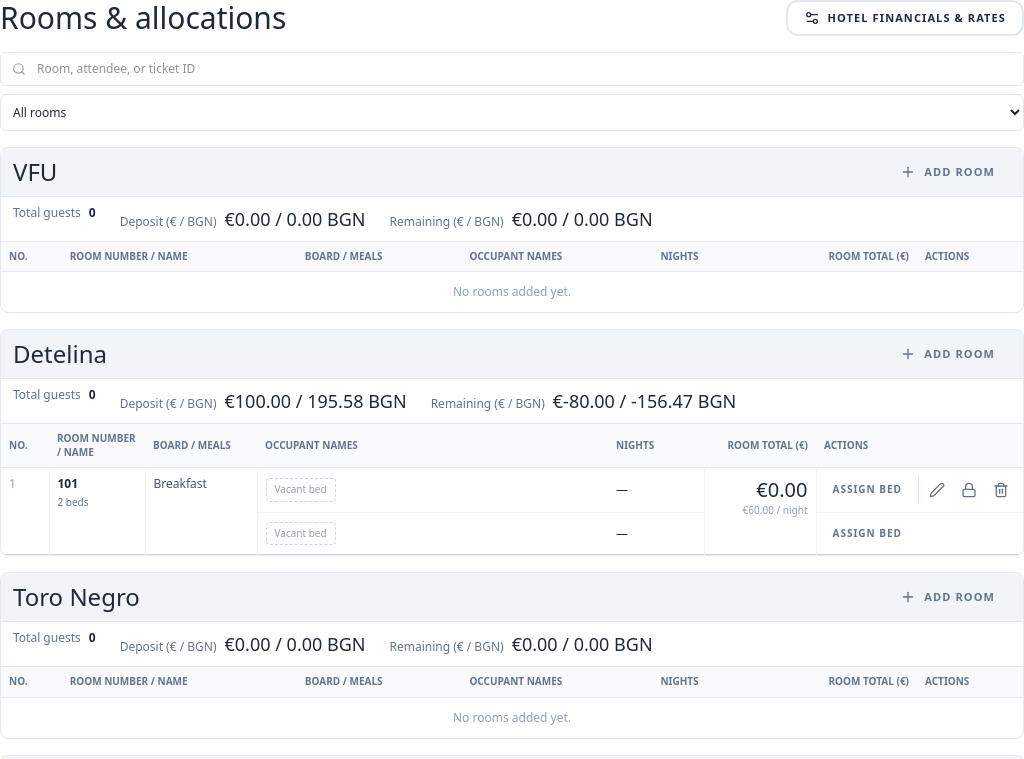
Scenario: hotel allocation spreadsheets › prefills a new room's hotel rate and saves a negotiated rate and board
Click the button "Add room" in the row of "Detelina". click: (948,354)
box: 884,338 -> 1011,370
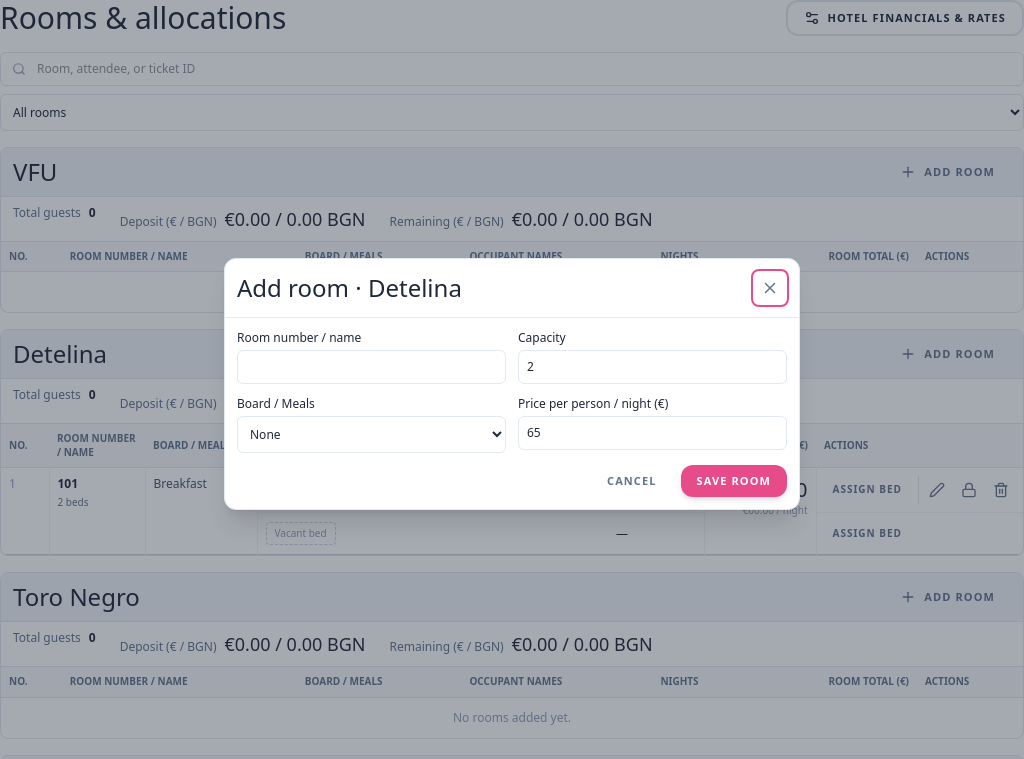
Check: the number field labelled "Price per person / night (€)" holds "65"
Replace the text in the number field labelled "Price per person / night (€)" with "61.5". click: (652,433)
box: 518,416 -> 787,450
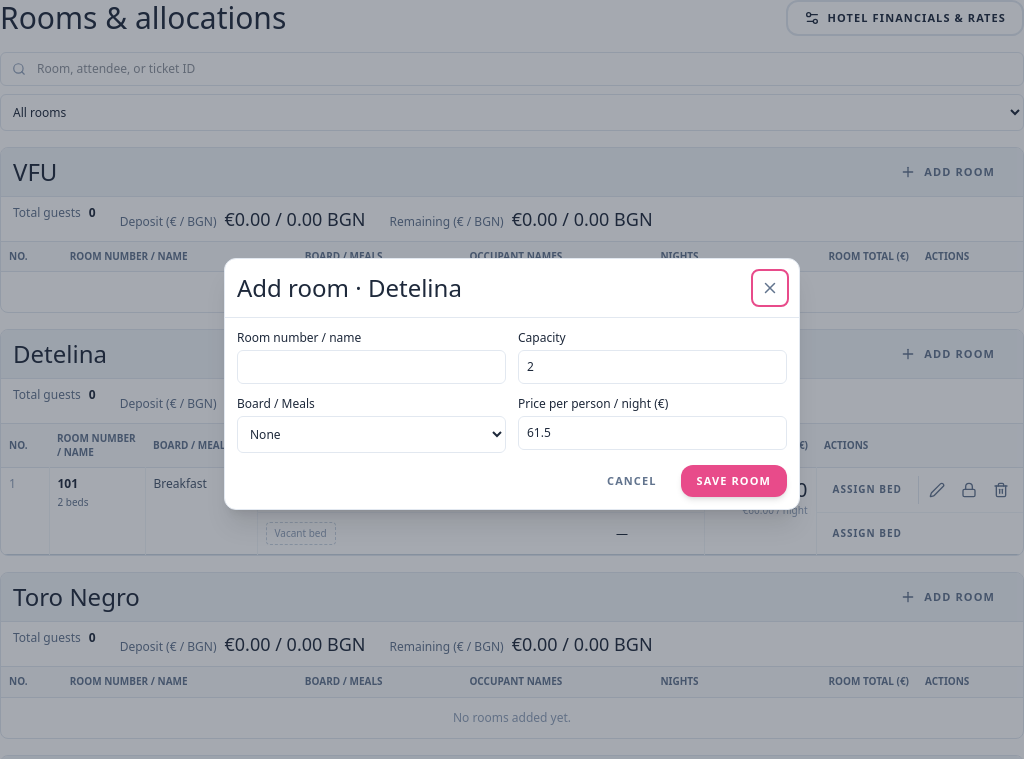
Type "413" into the field labelled "Room number / name". click: (372,367)
box: 237,350 -> 506,384
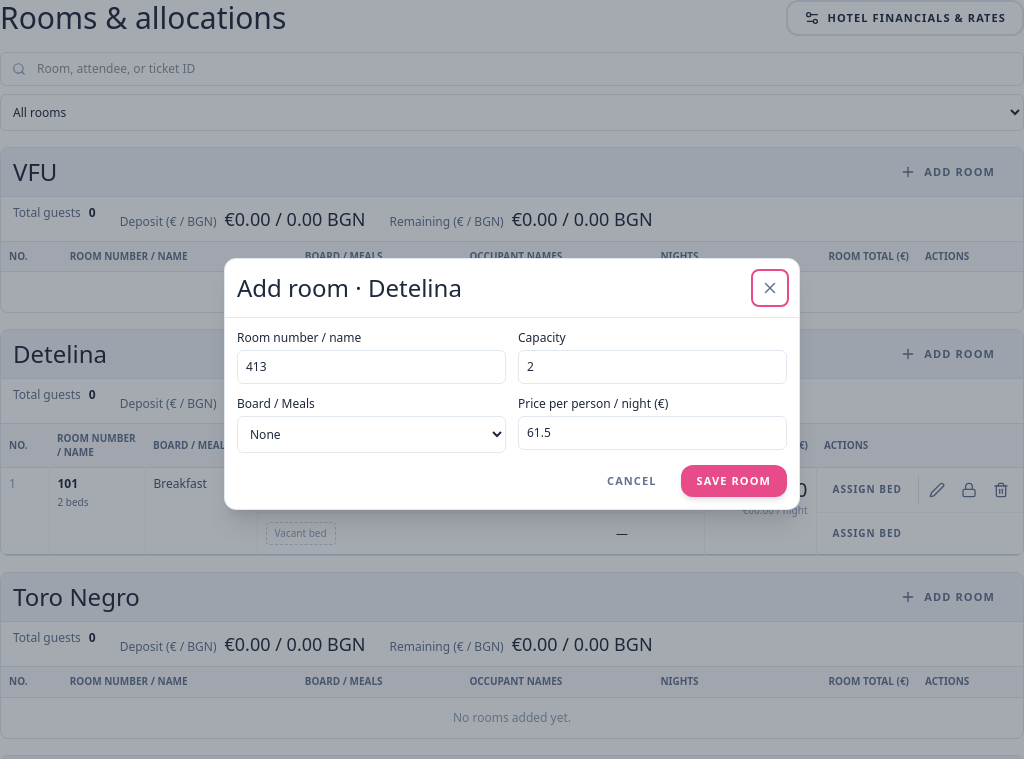
Replace the text in the number field labelled "Capacity" with "3". click: (652,367)
box: 518,350 -> 787,384
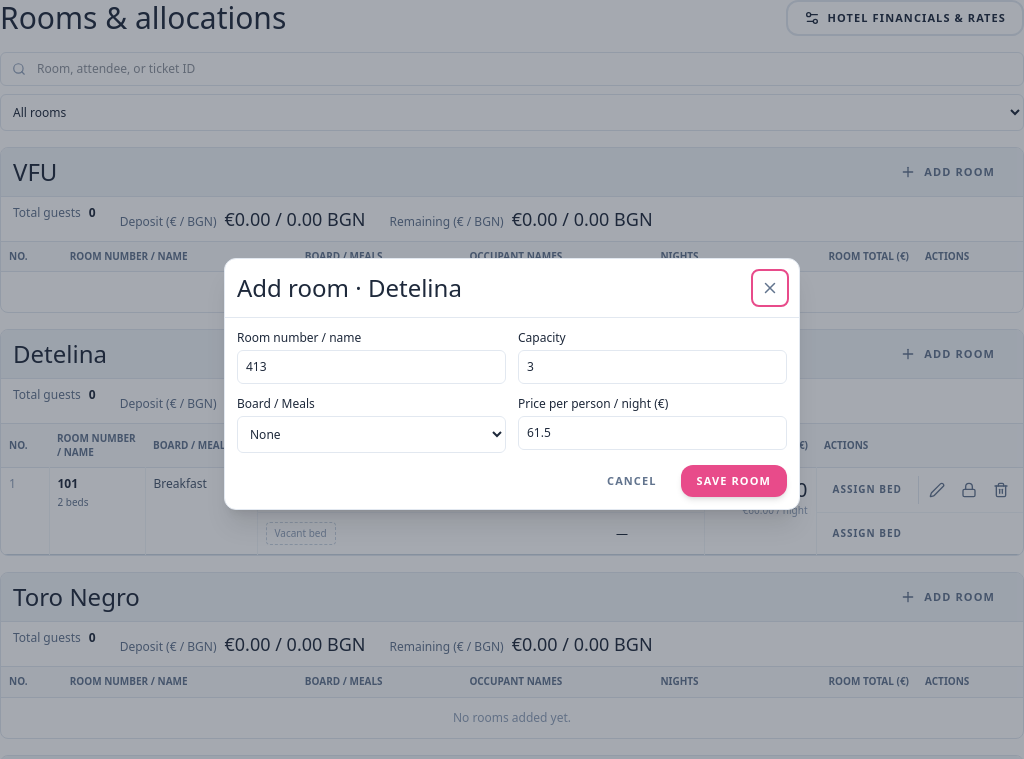
Select "Breakfast" in the dropdown labelled "Board / Meals". click: (372,434)
box: 237,416 -> 506,453
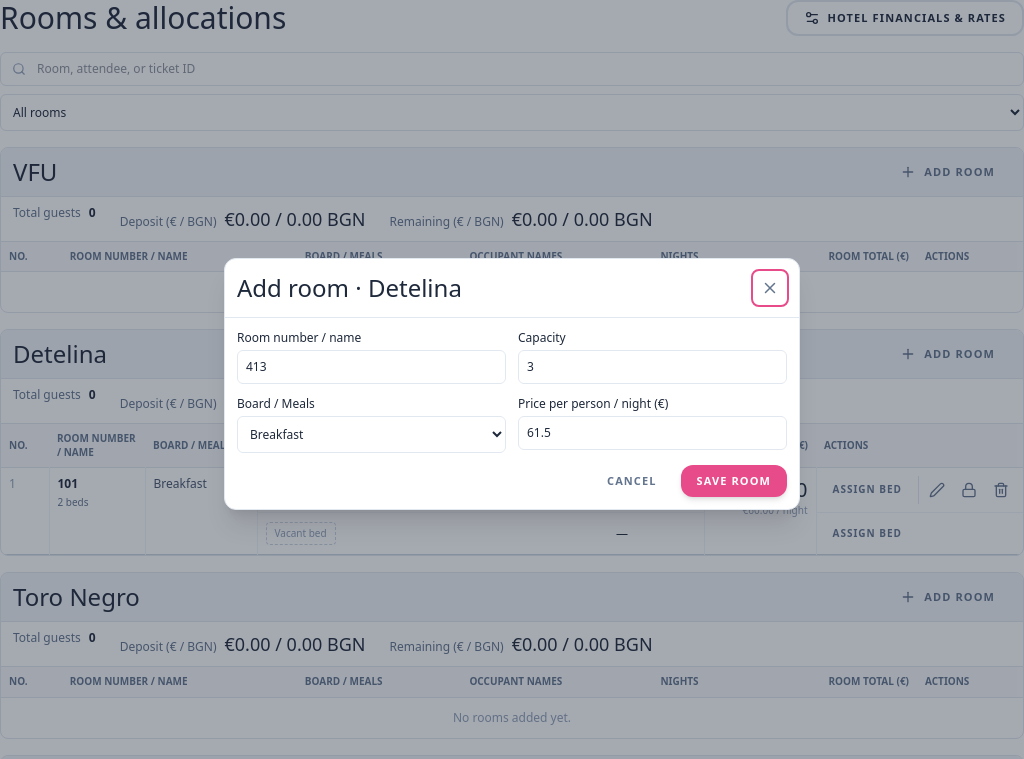
Click the button "Save room". click: (734,481)
box: 681,465 -> 787,497
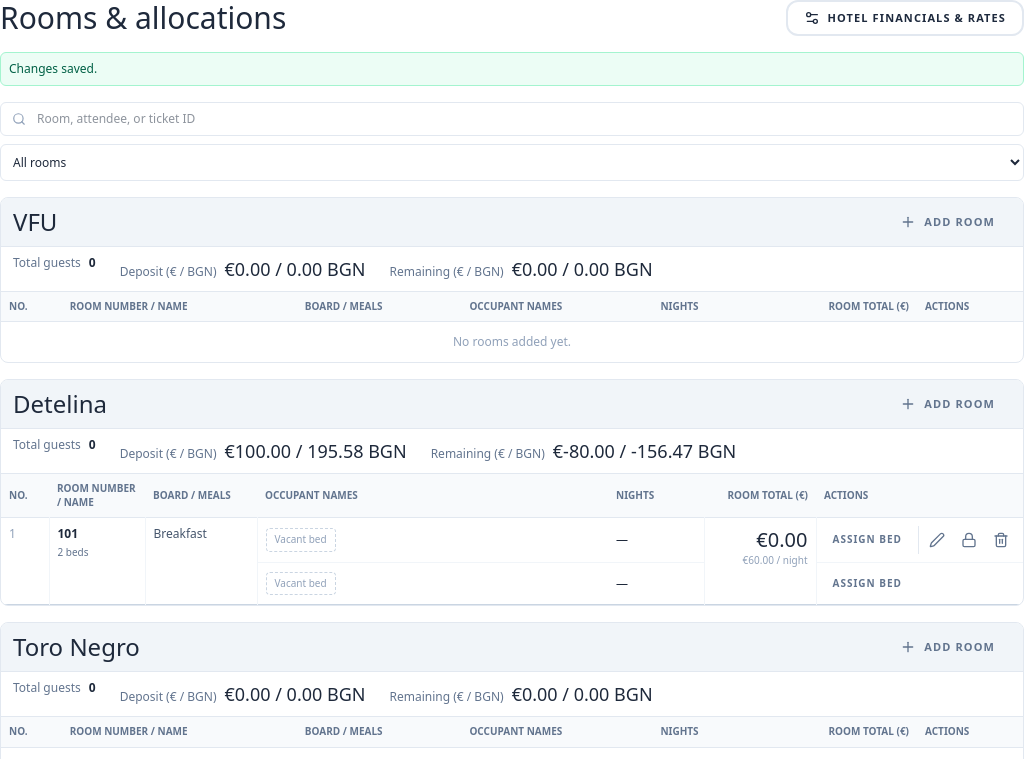
Check: the dialog is gone
